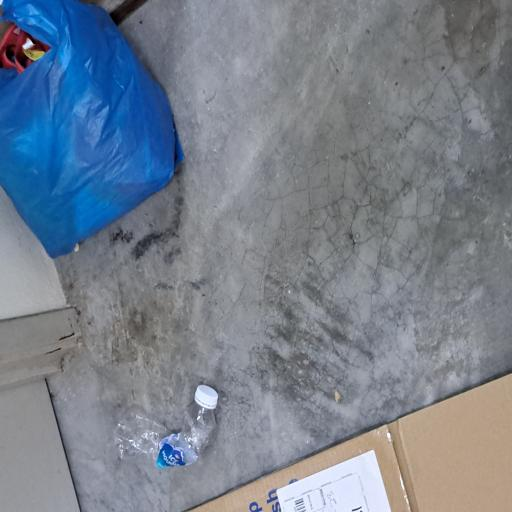cardboard: (0, 241, 106, 512)
plastic bag: (188, 0, 383, 241)
plastic bottle: (32, 152, 84, 292)
plastic bottle cap: (78, 259, 96, 290)
